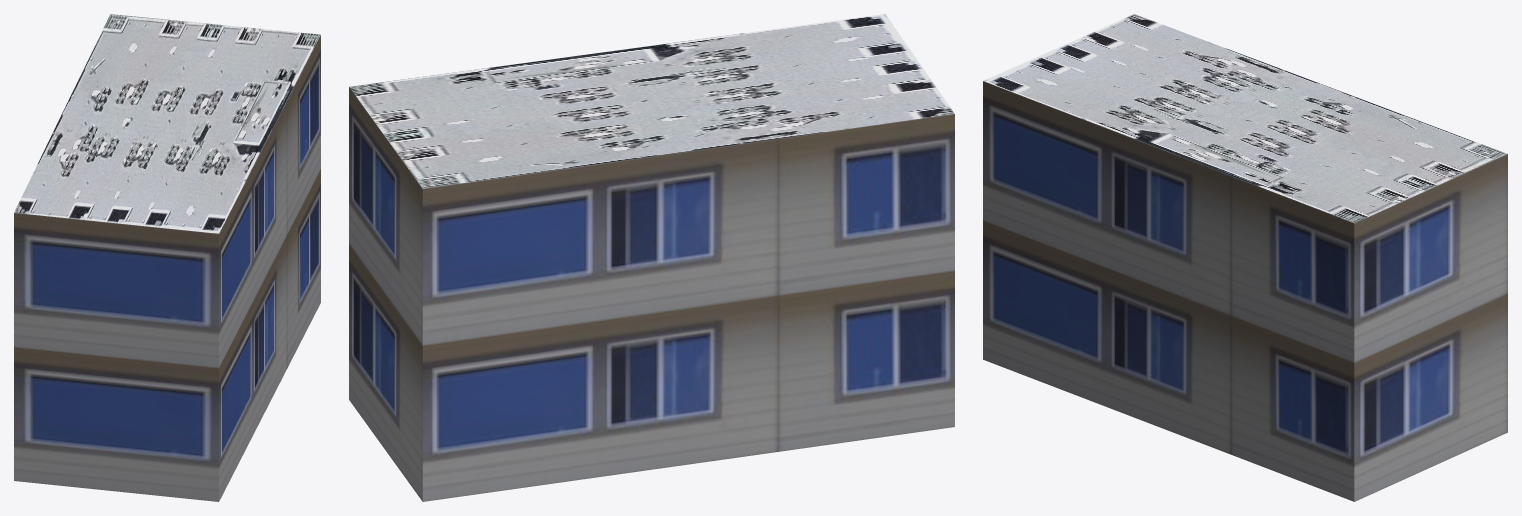
The model's file is ResTex__1706.fbx.
3 renders of one model, left to right at view 1: azimuth 30°, elevation 25°; view 2: azimuth 150°, elevation 25°; view 3: azimuth 270°, elevation 25°, orthographic. The views are drawn at different scales.
Parts seen in each view (by area): view 1: CityEngineMaterial_23_m, CityEngineMaterial_2_m; view 2: CityEngineMaterial_23_m, CityEngineMaterial_2_m; view 3: CityEngineMaterial_23_m, CityEngineMaterial_2_m.
Boxes of the visible parts, left/top/right/bottom form: CityEngineMaterial_23_m: left=14, top=35, right=320, bottom=501; CityEngineMaterial_2_m: left=14, top=14, right=320, bottom=233; CityEngineMaterial_23_m: left=349, top=87, right=954, bottom=501; CityEngineMaterial_2_m: left=349, top=14, right=954, bottom=188; CityEngineMaterial_23_m: left=983, top=81, right=1507, bottom=501; CityEngineMaterial_2_m: left=983, top=14, right=1507, bottom=223.
Size of the model in its own units: 9.67 by 6 by 10.24.
Materials: 2 (2 with a texture image).
